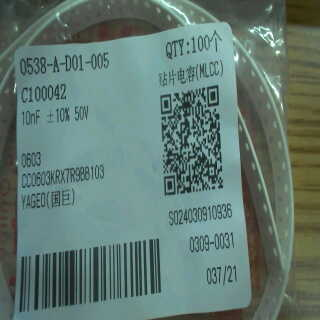10nF: (20, 107, 43, 129)
